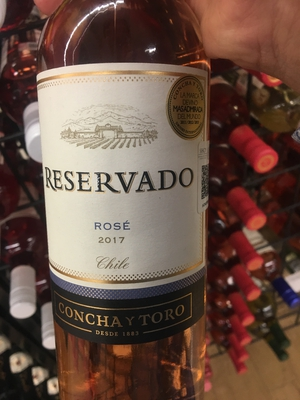reservado rose: (34, 10, 214, 392)
